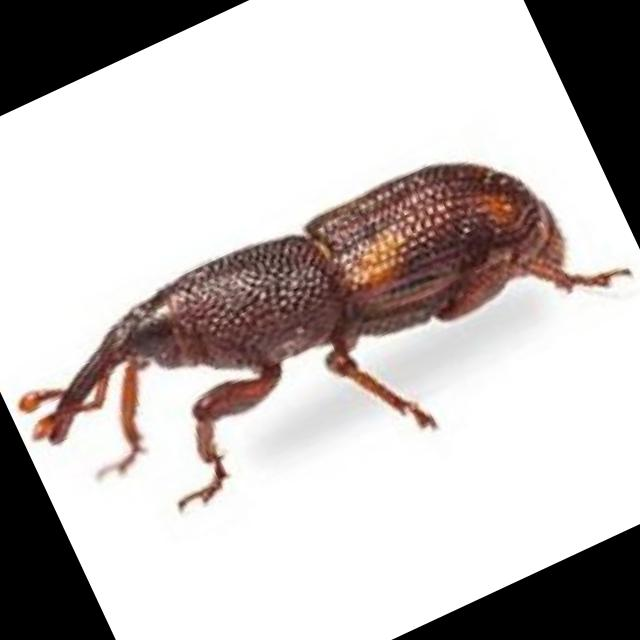rice-bug: (0, 104, 629, 553)
